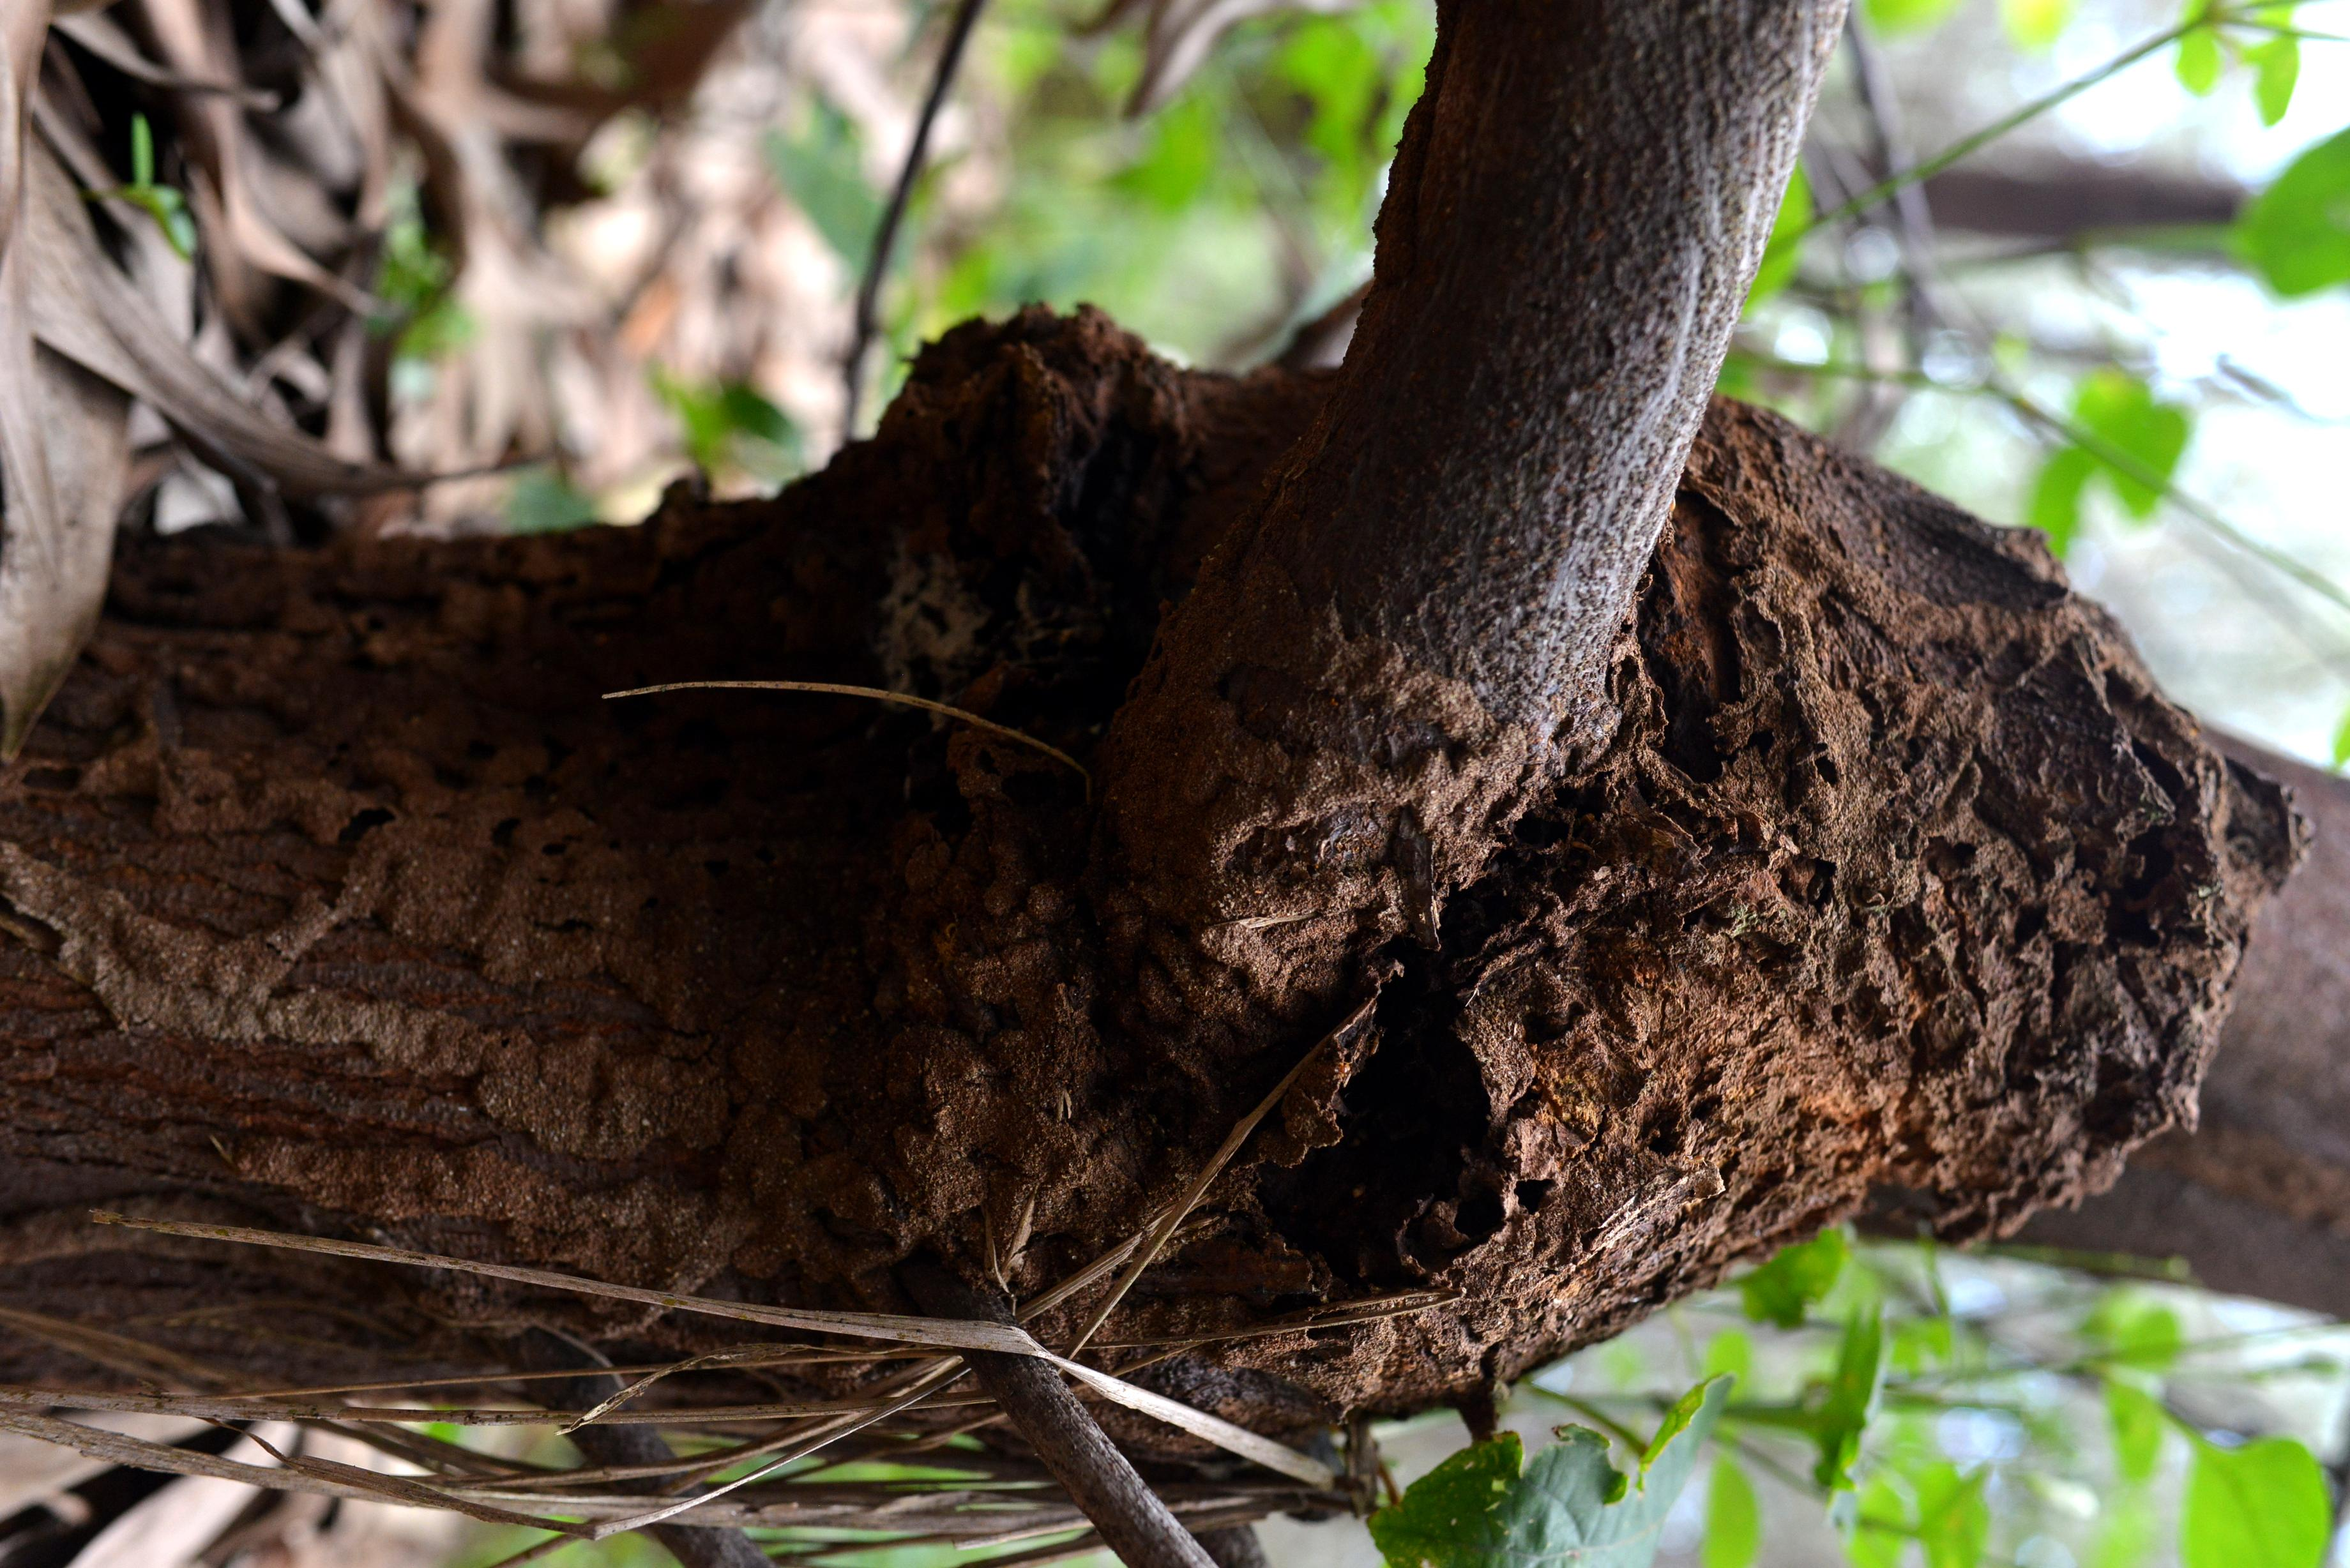Termite - Nest: (2, 817, 693, 1153), (87, 591, 623, 978), (0, 1167, 740, 1349), (1146, 581, 1542, 845), (2137, 1050, 2347, 1249), (1766, 570, 2086, 658)
